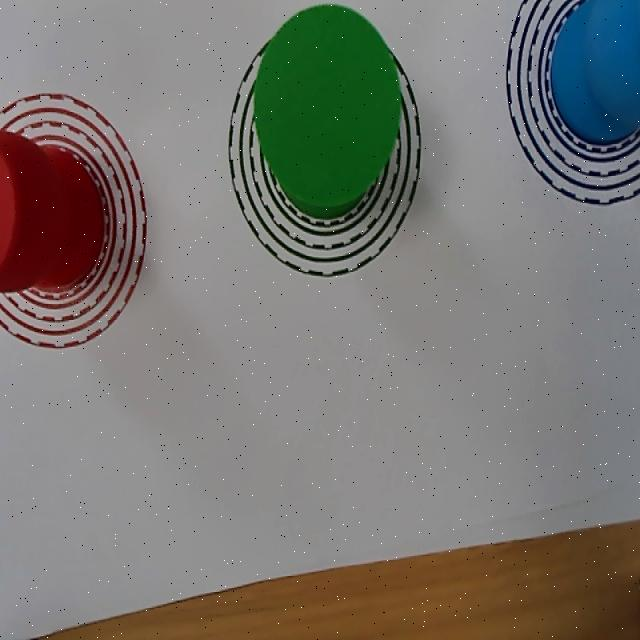g: (254, 5, 400, 204)
